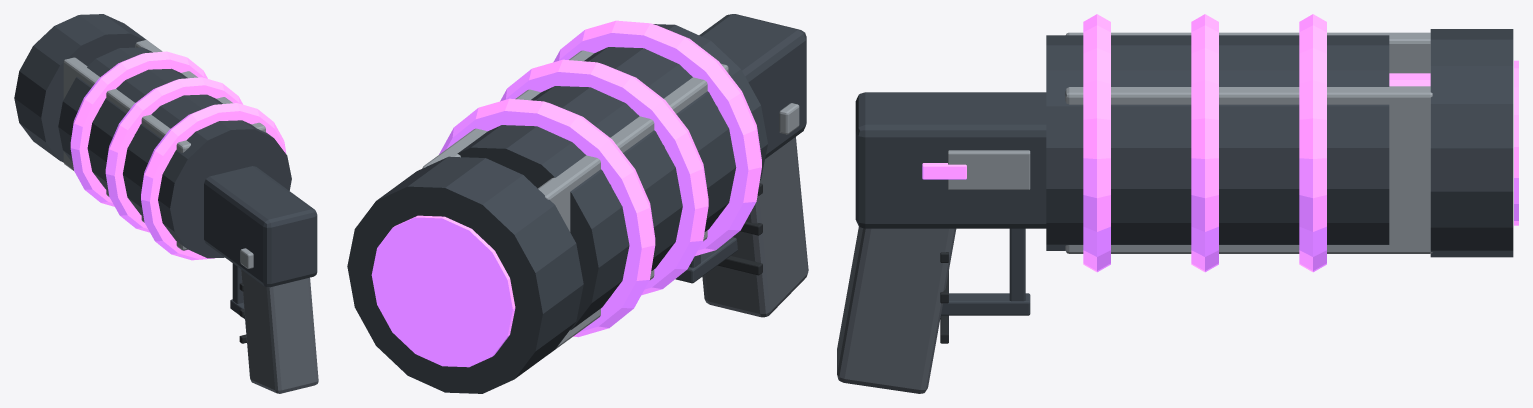
File: plasma.glb
3 renders of one model, left to right at view 1: azimuth 30°, elevation 25°; view 2: azimuth 150°, elevation 25°; view 3: azimuth 270°, elevation 25°, orthographic. The views are drawn at different scales.
Visible parts, largest first — view 1: Arma_plasma; view 2: Arma_plasma; view 3: Arma_plasma.
Boxes of the visible parts, x1,y1,x2,y2 form: Arma_plasma: [14, 14, 318, 393]; Arma_plasma: [347, 14, 808, 393]; Arma_plasma: [837, 14, 1518, 393].
Size of the model in its own units: 0.41 by 0.6177 by 1.07.
